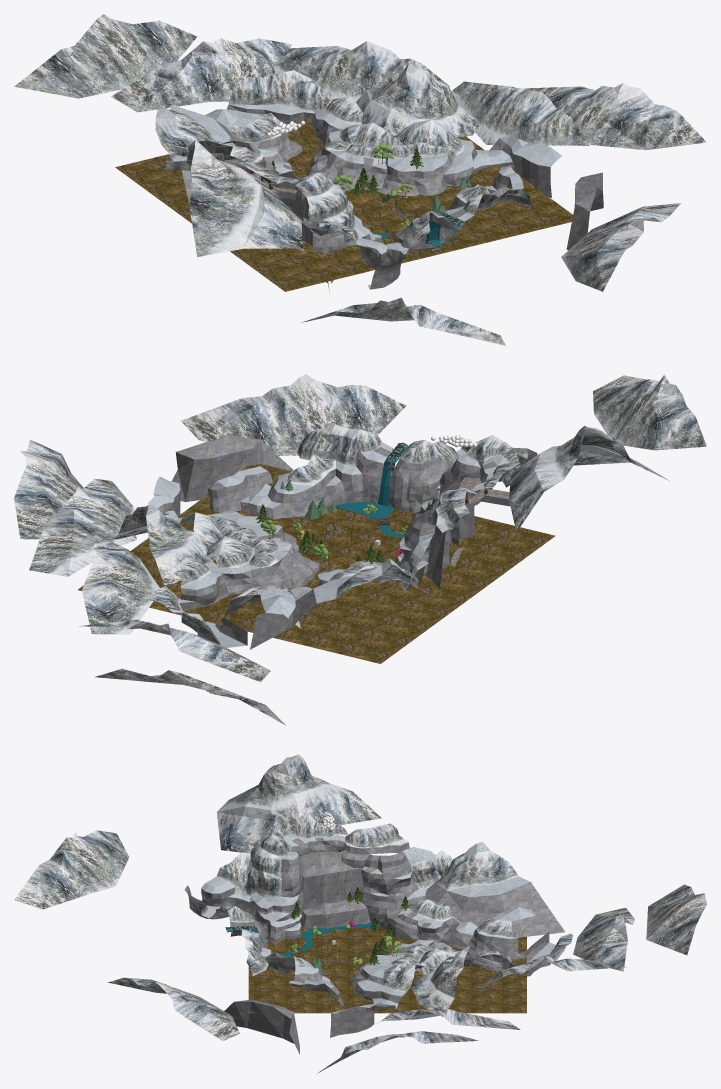
File: Campfire.fbx
The picture shows the model from 3 angles, top to bottom: view 1: azimuth 30°, elevation 25°; view 2: azimuth 150°, elevation 25°; view 3: azimuth 270°, elevation 25°; orthographic projection. The views are drawn at different scales.
Visible parts, largest first — view 1: Rock, Plane; view 2: Rock, Plane, Waterfall, Cliff; view 3: Rock, Plane, Waterfall.
Boxes of the visible parts, x1=… form: Rock: x1=14, y1=14, x2=706, y2=345; Plane: x1=115, y1=120, x2=572, y2=291; Rock: x1=14, y1=374, x2=706, y2=725; Plane: x1=78, y1=463, x2=555, y2=663; Waterfall: x1=336, y1=446, x2=407, y2=537; Cliff: x1=450, y1=477, x2=509, y2=568; Rock: x1=14, y1=754, x2=706, y2=1073; Plane: x1=248, y1=927, x2=526, y2=1013; Waterfall: x1=226, y1=921, x2=380, y2=972.
Size of the model in its own units: 31367 by 9284 by 40913.
30 materials, 13 textured.
